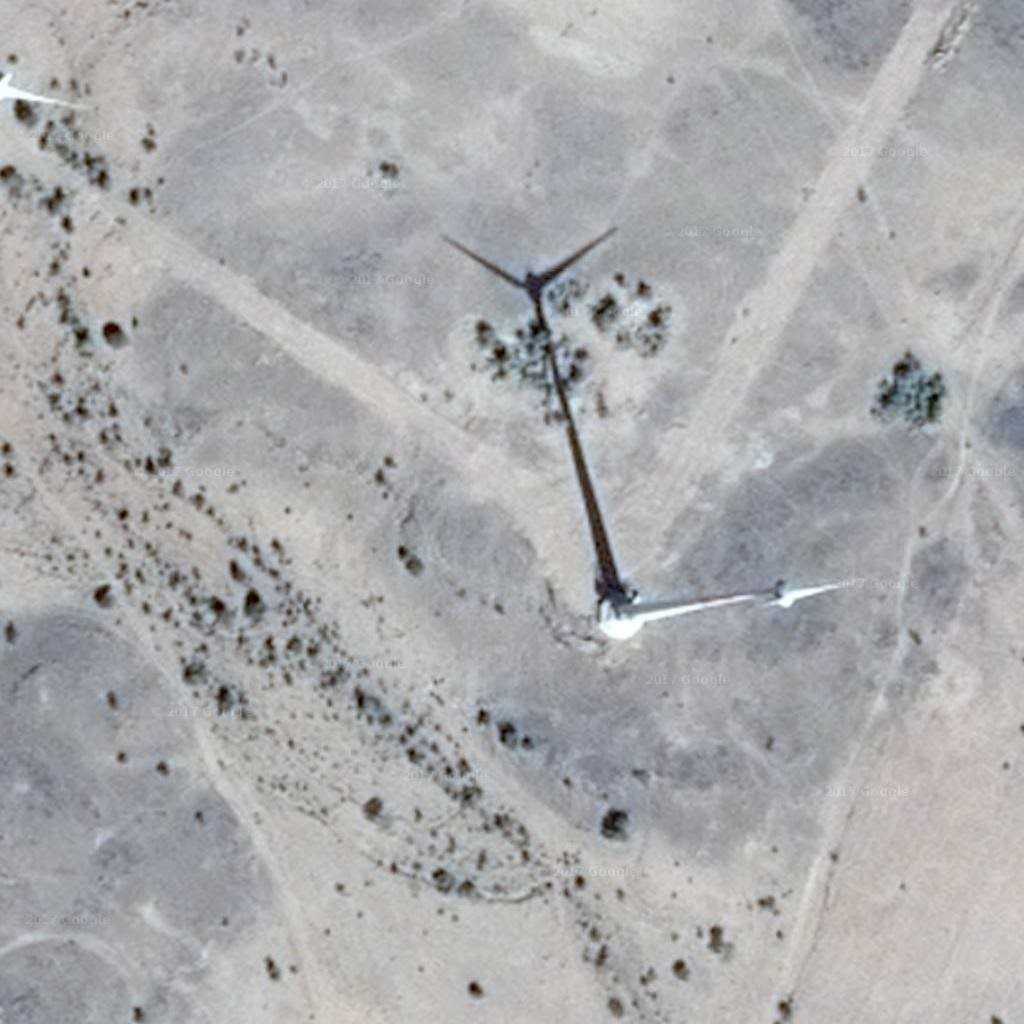Windmill: (434, 227, 646, 584)
